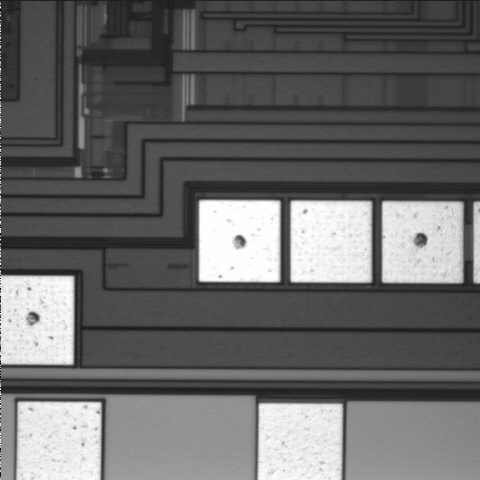pad: (199, 200, 280, 282), (382, 201, 463, 283), (291, 201, 372, 282)
